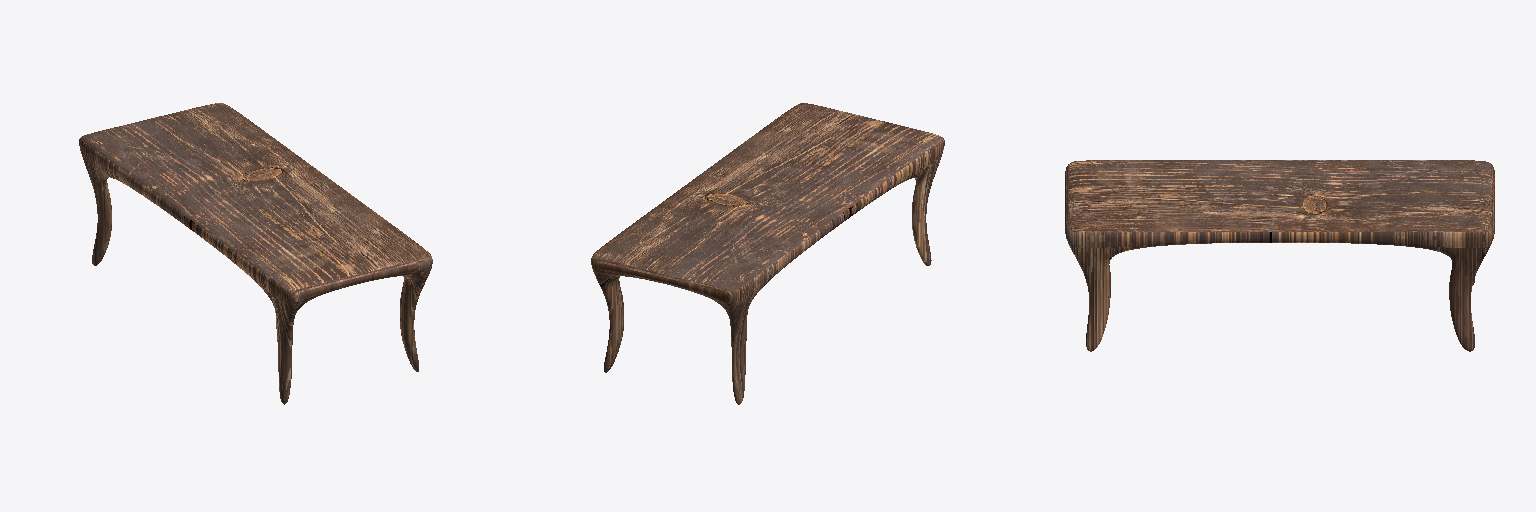
3 views of the same model, side by side, from view 1: azimuth 30°, elevation 25°; view 2: azimuth 150°, elevation 25°; view 3: azimuth 270°, elevation 25° (orthographic).
Parts seen in each view (by area): view 1: Cube_Cube.001; view 2: Cube_Cube.001; view 3: Cube_Cube.001.
Part boxes in pixels (bbox=[...]): Cube_Cube.001: bbox=[79, 103, 432, 404]; Cube_Cube.001: bbox=[591, 103, 944, 404]; Cube_Cube.001: bbox=[1065, 160, 1494, 351].
Bounding box in the file's own units: 2.84 × 2.31 × 7.13.
Materials: 1 (1 with a texture image).